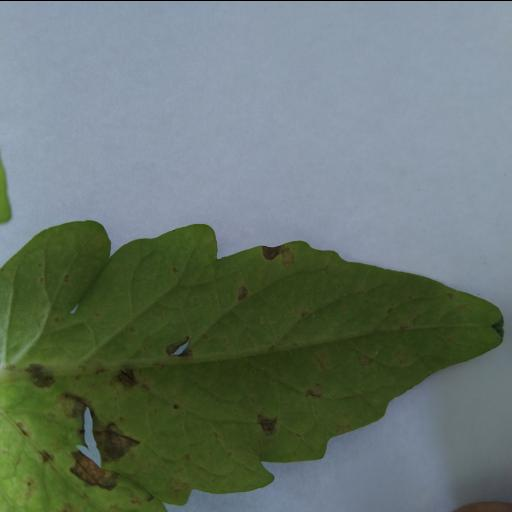disease_tomato: (0, 217, 505, 512)
